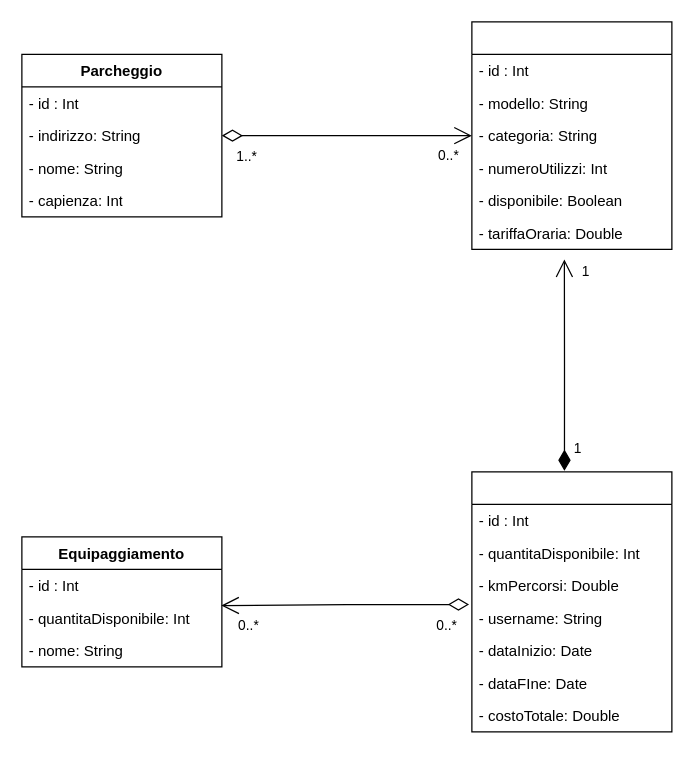
Some shapes in this 694 by 758 pixel diagram are drawn without their labels. Here are the shapes that lost their labels. From the top down, the box of each, then its label:
(471, 21, 672, 249): Bicicletta
(471, 471, 672, 732): Noleggio
